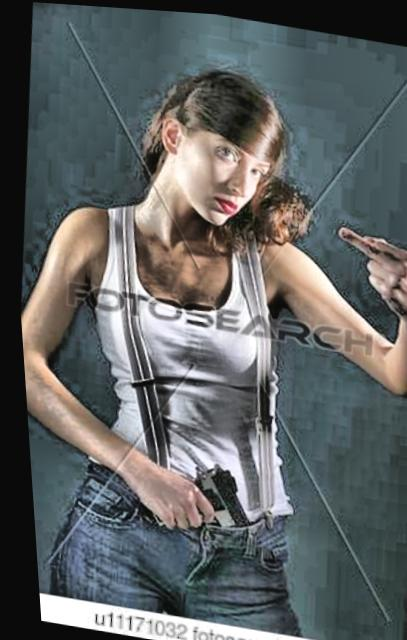pistol: (162, 451, 252, 551)
